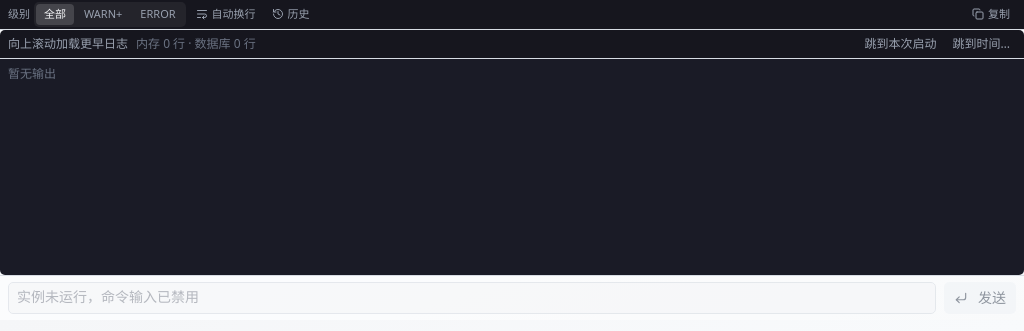
Test: FR-416 历史按实例持久化（刷新后仍在） › 未持久化过的实例首挂载历史为空（不串到别的实例）
The width and height of the screenshot is (1024, 331).
Click the button "历史": x=291, y=14 266,4 -> 316,24
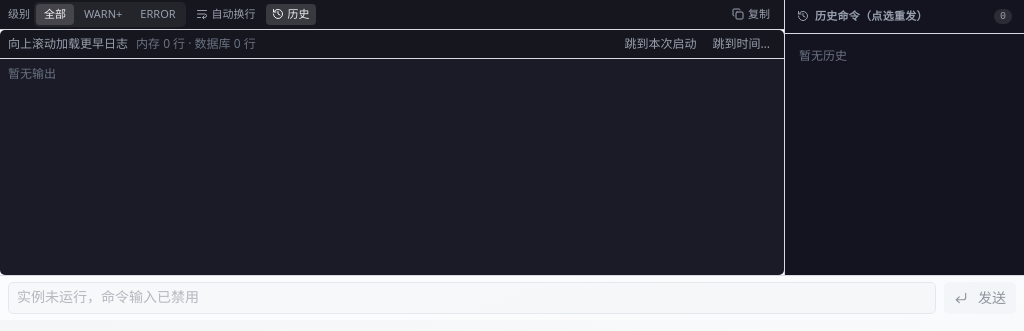
Now the text "暂无历史" is shown, box 799,46 -> 847,64
